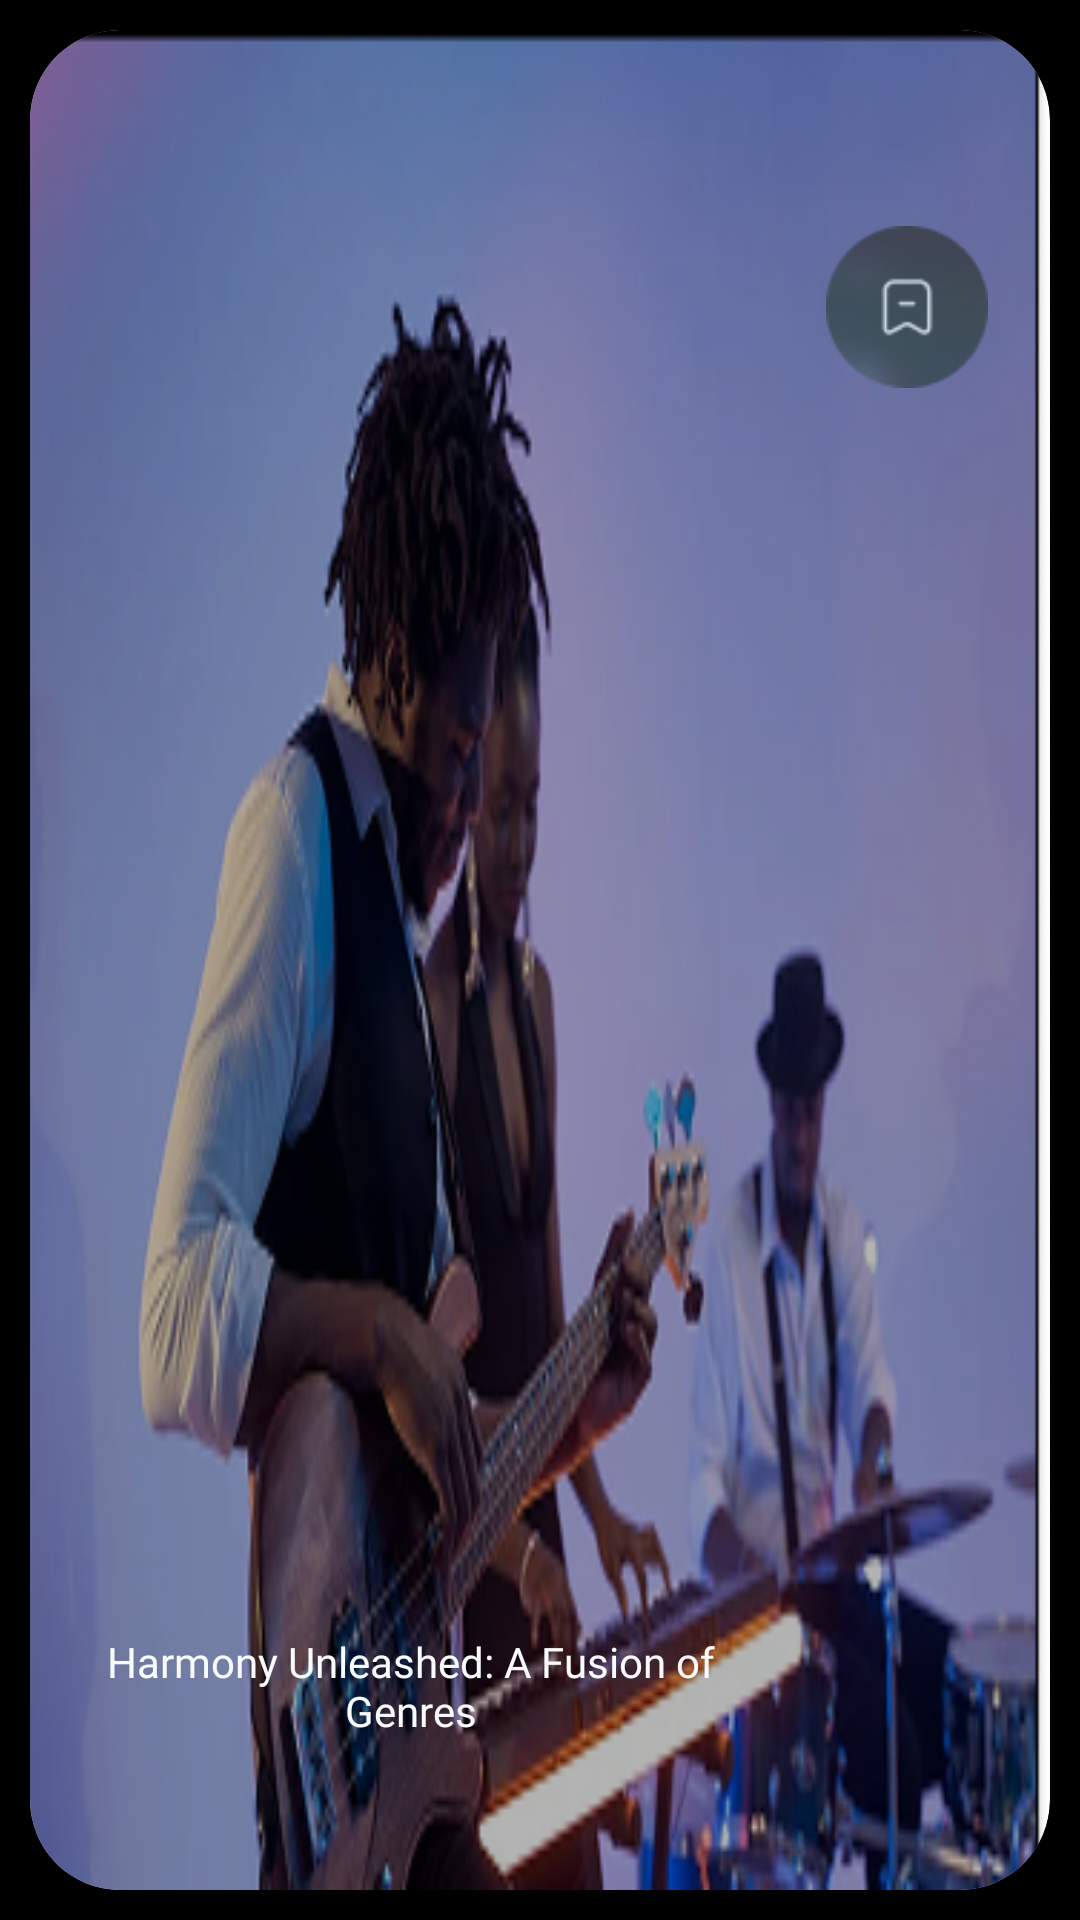

Icon bounding boxes for this 1080 x 1920 phone screenshot, format (x1, y1, x2, y2):
bookmark: (826, 226, 988, 388)
